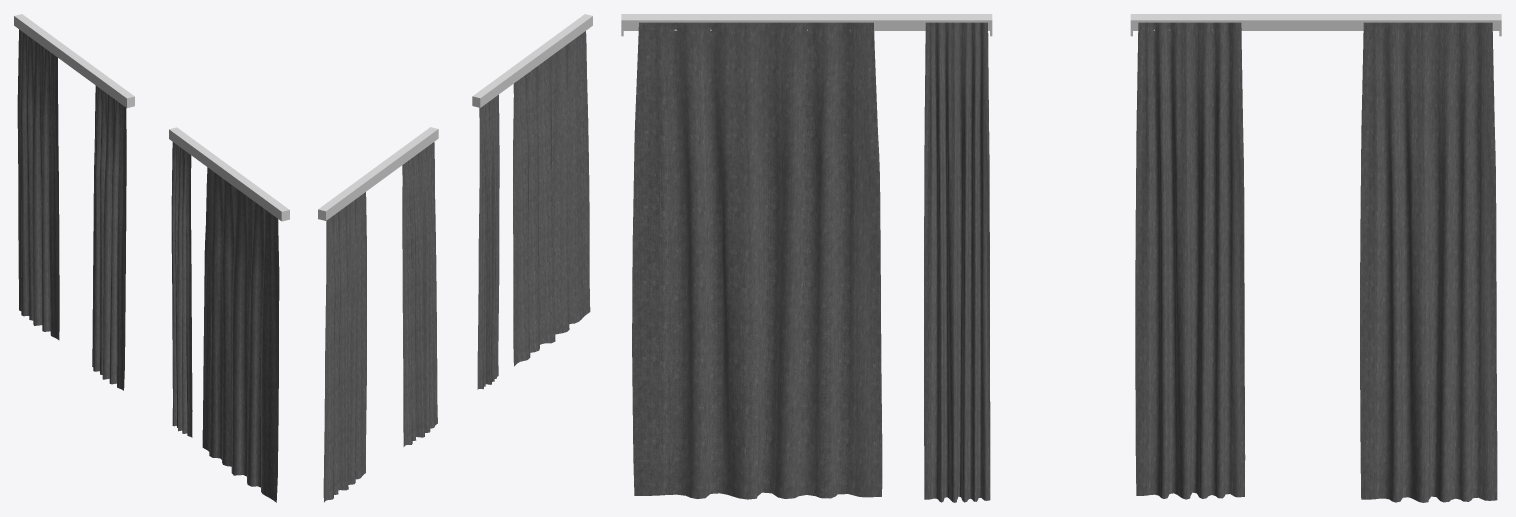
Rendered from CurtainSet.fbx.
3 renders of one model, left to right at view 1: azimuth 30°, elevation 25°; view 2: azimuth 150°, elevation 25°; view 3: azimuth 270°, elevation 25°, orthographic. The views are drawn at different scales.
Parts seen in each view (by area): view 1: curtain_04, curtain_01, curtain_02, curtain_03, Cube.001, Cube; view 2: curtain_04, curtain_01, curtain_02, curtain_03, Cube, Cube.001; view 3: curtain_04, curtain_01, curtain_02, curtain_03, Cube, Cube.001.
Boxes of the visible parts, x1,y1,x2,y2 form: curtain_04: [202, 167, 279, 502]; curtain_01: [17, 29, 59, 340]; curtain_02: [92, 85, 126, 390]; curtain_03: [171, 142, 192, 437]; Cube.001: [169, 127, 289, 221]; Cube: [14, 14, 134, 107]; curtain_04: [513, 31, 590, 366]; curtain_01: [323, 192, 366, 502]; curtain_02: [402, 142, 437, 446]; curtain_03: [477, 94, 499, 389]; Cube: [318, 127, 438, 220]; Cube.001: [472, 14, 592, 107]; curtain_04: [632, 22, 882, 499]; curtain_01: [1360, 22, 1497, 502]; curtain_02: [1135, 22, 1245, 499]; curtain_03: [924, 22, 990, 502]; Cube: [1130, 14, 1501, 36]; Cube.001: [621, 14, 992, 36].
Bounding box in the file's own units: 16.48 × 578 × 350.
1 material, 1 textured.
